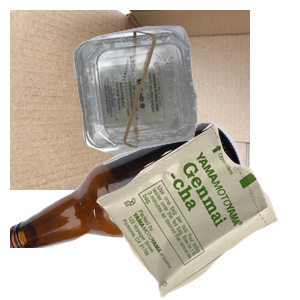cardboard: (10, 10, 250, 190)
glass: (10, 120, 247, 300)
plastic: (71, 23, 300, 169)
trash: (91, 124, 300, 300)
